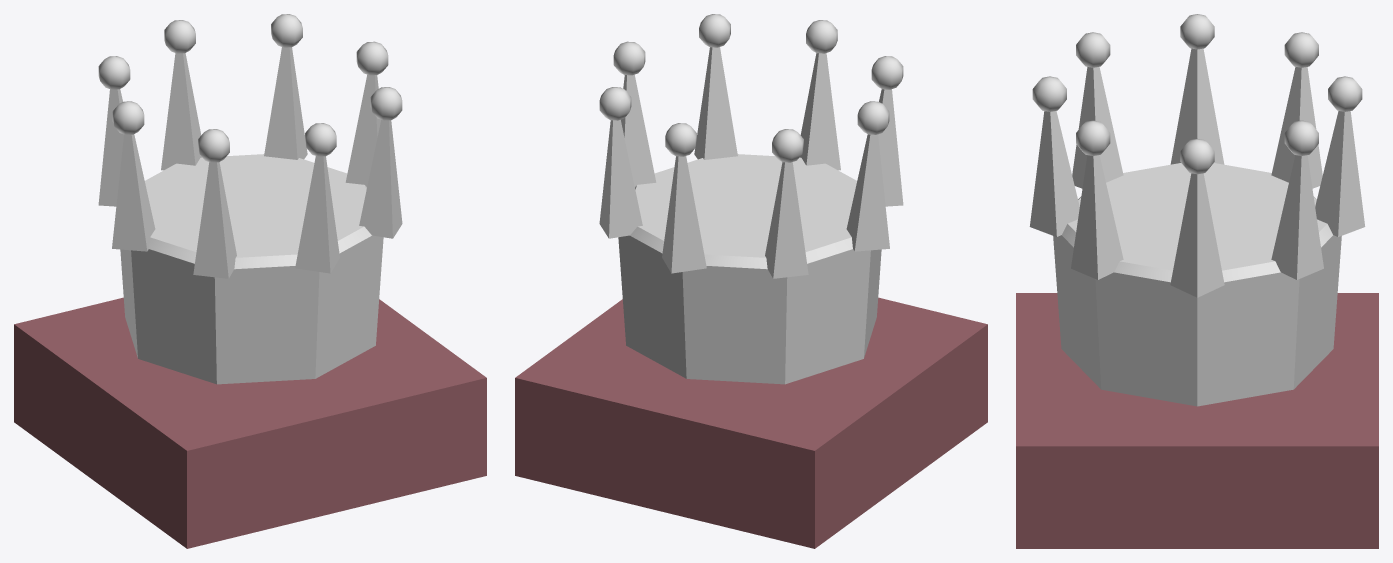
The model's file is trophy_crown.gltf.
3 renders of one model, left to right at view 1: azimuth 30°, elevation 25°; view 2: azimuth 150°, elevation 25°; view 3: azimuth 270°, elevation 25°, orthographic. The views are drawn at different scales.
Visible parts, largest first — view 1: Body; view 2: Body; view 3: Body.
Boxes of the visible parts, <box> form: Body: <box>14,14,486,548</box>; Body: <box>515,14,987,548</box>; Body: <box>1016,14,1378,548</box>.
Bounding box in the file's own units: 0.08 × 0.096 × 0.08.
